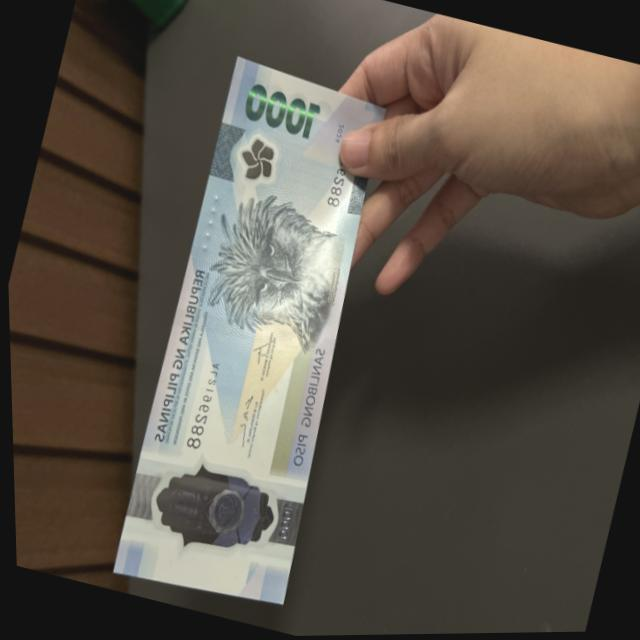clear_window: (132, 449, 294, 578)
eagle: (196, 185, 356, 358)
sampaguita: (229, 138, 277, 192)
value: (232, 76, 323, 151)
